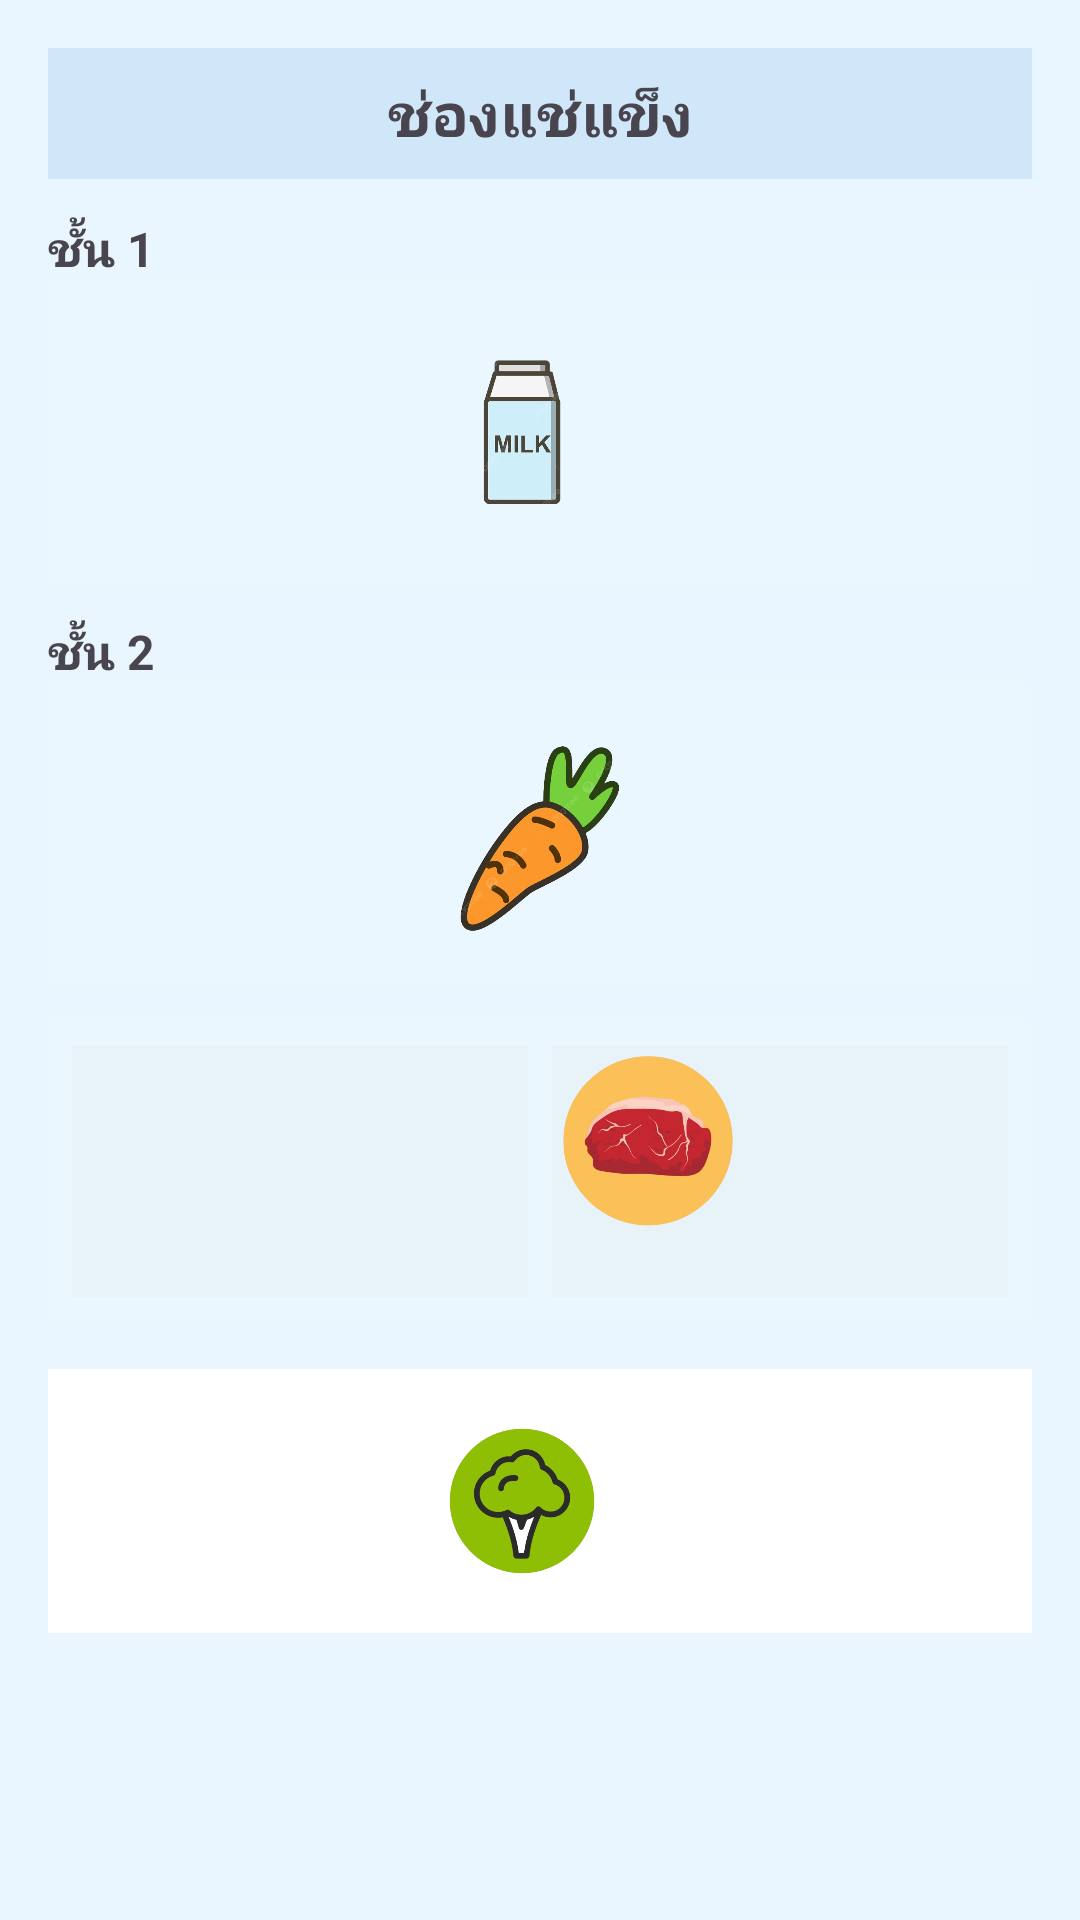

Icon bounding boxes for this 1080px x 1920px phone screenshot, format (x1, y1, x2, y2):
carrot: (460, 746, 619, 931)
meat: (563, 1056, 733, 1226)
